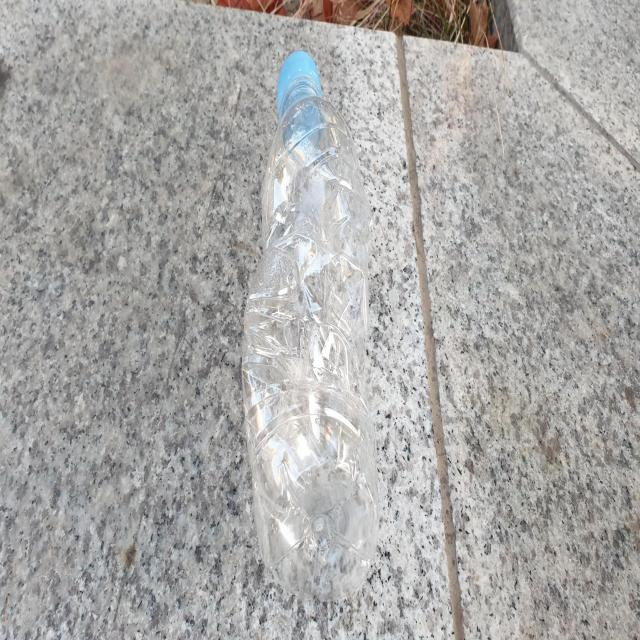plastic: (242, 50, 379, 601)
